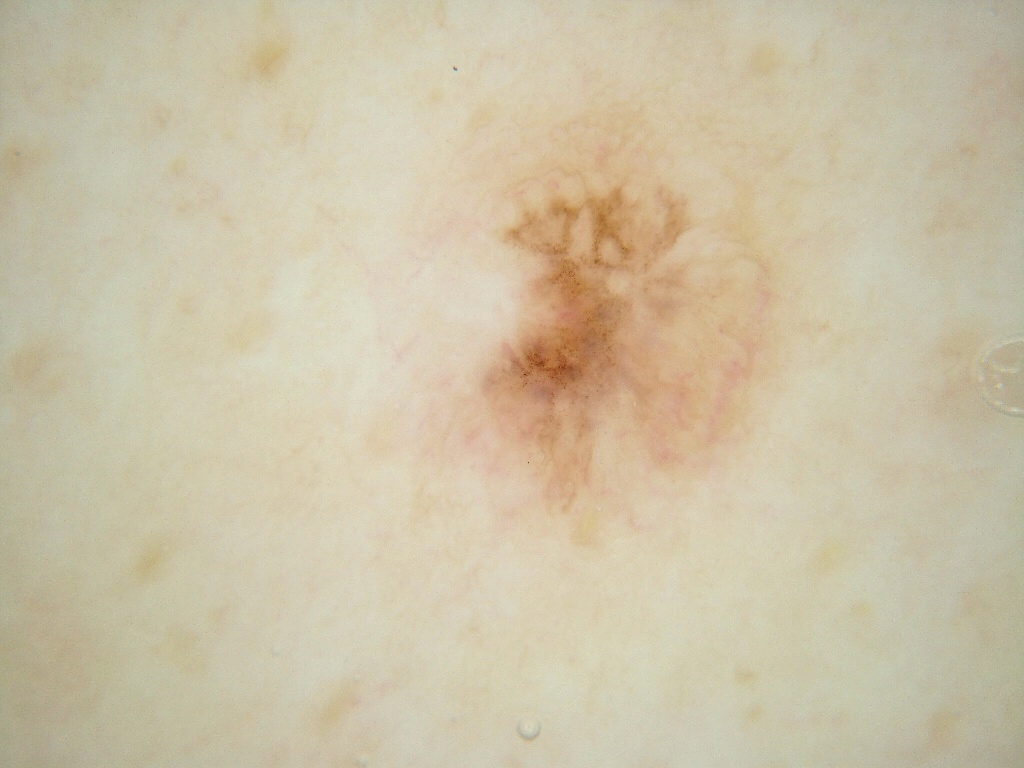Detected Lesion: (471, 173, 776, 503)
